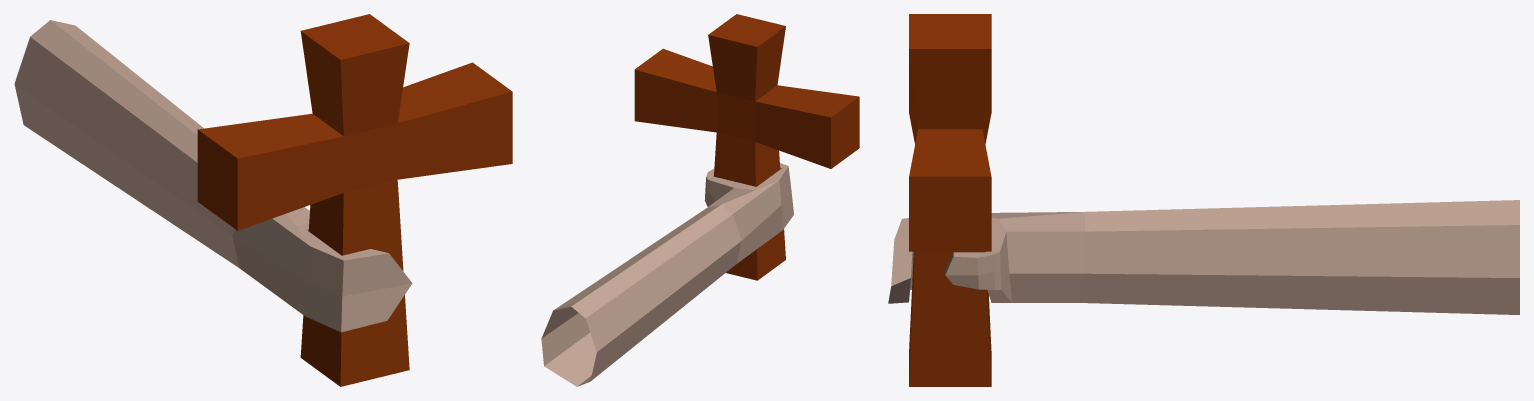
The model's file is braco3.fbx.
3 renders of one model, left to right at view 1: azimuth 30°, elevation 25°; view 2: azimuth 150°, elevation 25°; view 3: azimuth 270°, elevation 25°, orthographic. The views are drawn at different scales.
Visible parts, largest first — view 1: Protagonista; view 2: Protagonista; view 3: Protagonista.
Part boxes in pixels (x1=…): Protagonista: x1=14, y1=14, x2=512, y2=386; Protagonista: x1=541, y1=14, x2=859, y2=386; Protagonista: x1=888, y1=14, x2=1519, y2=386.
Size of the model in its own units: 263 by 299 by 506.
